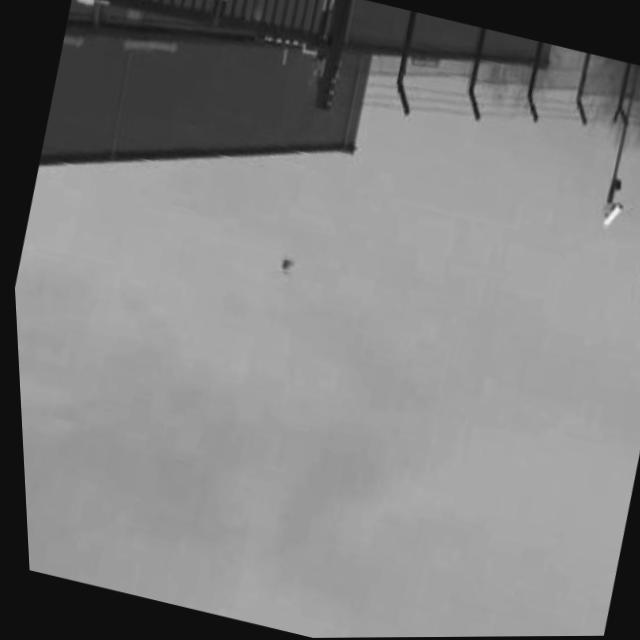helikopter: (266, 247, 297, 281)
